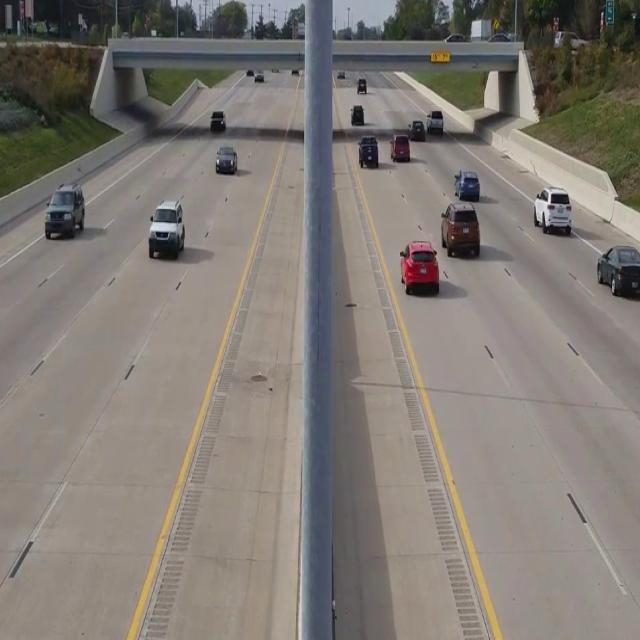car: (596, 245, 640, 298), (440, 201, 480, 258), (148, 198, 185, 259), (399, 240, 439, 294), (534, 186, 572, 234), (455, 168, 480, 200), (215, 144, 238, 174), (358, 135, 378, 168), (390, 134, 410, 161), (210, 110, 225, 131)
